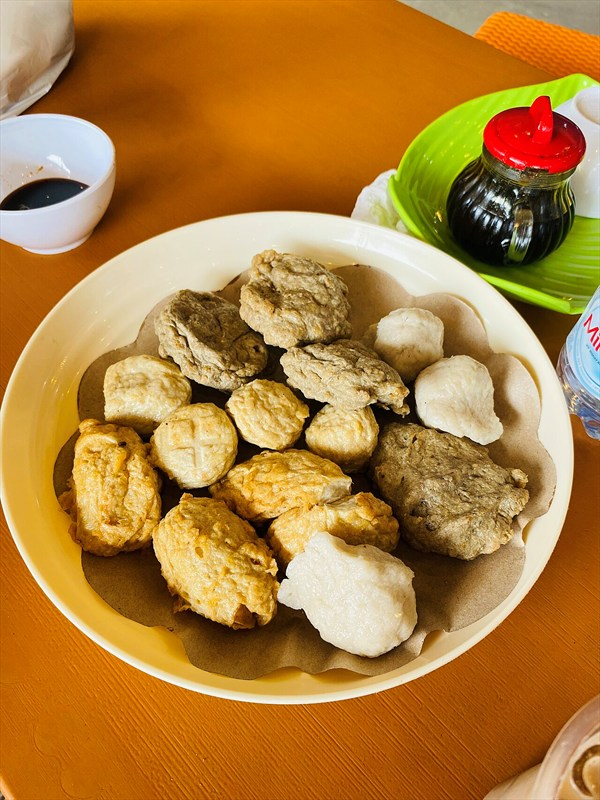Pempek: (61, 139, 553, 688)
